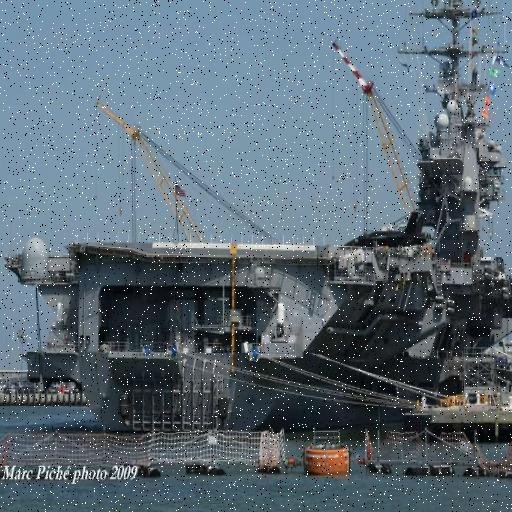Portanaves: (5, 1, 512, 442)
